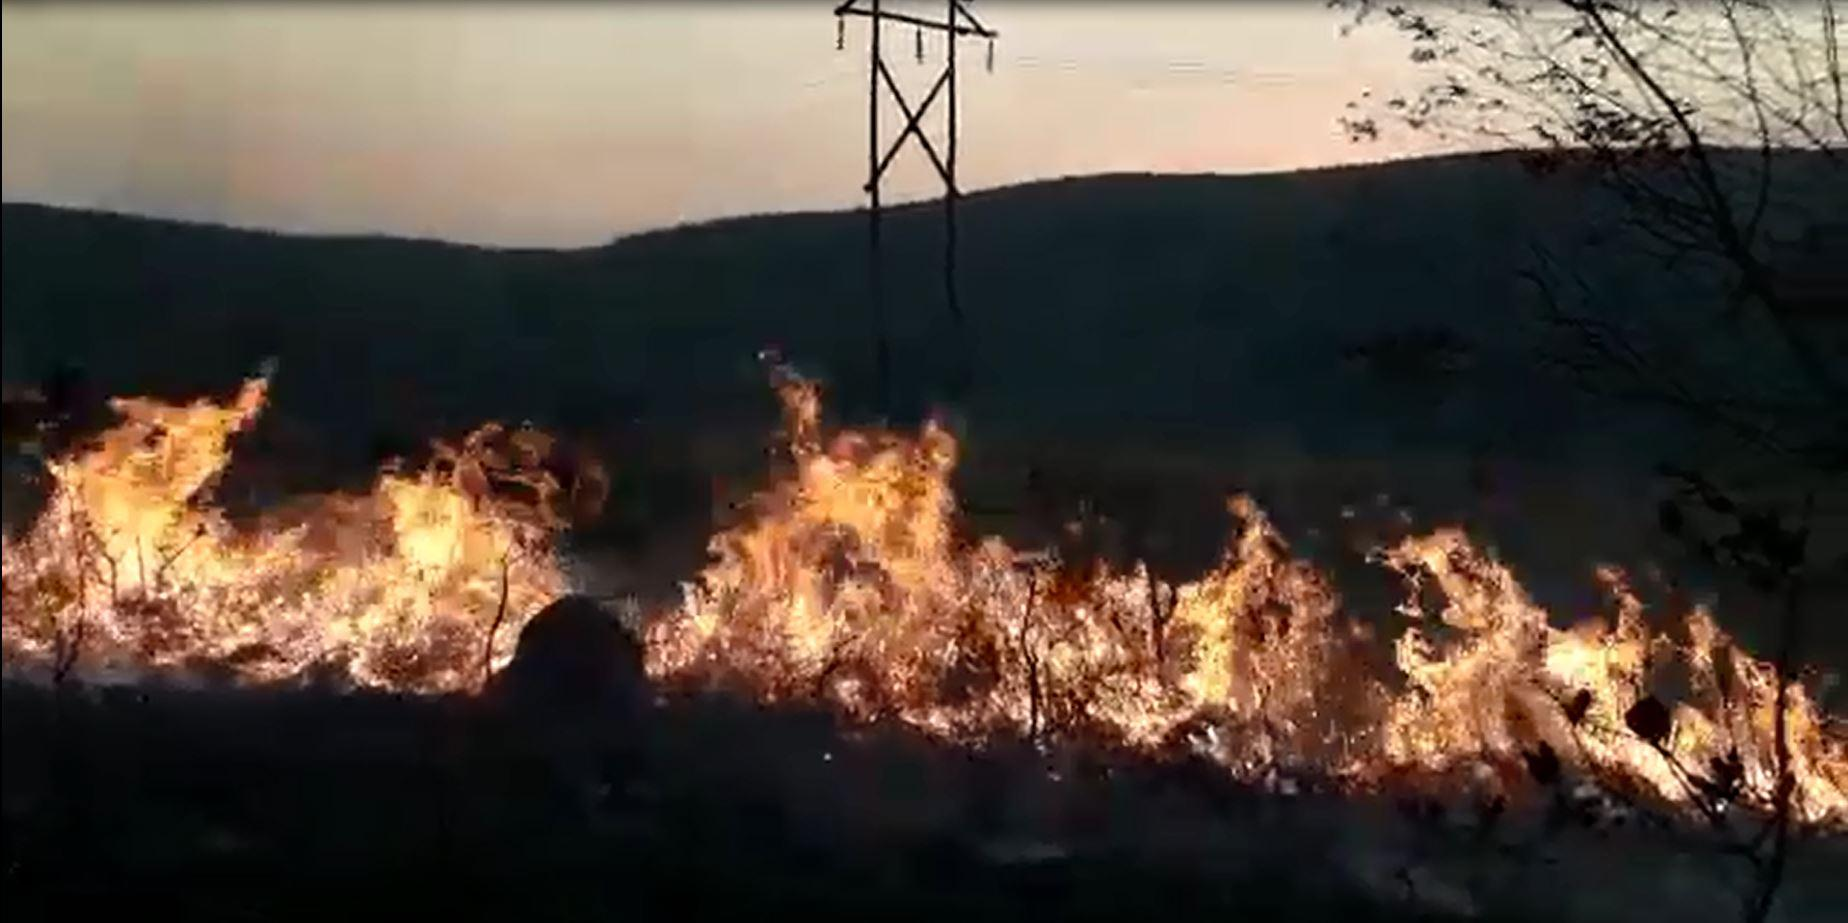Fire: (645, 357, 1844, 820), (11, 354, 570, 694)
